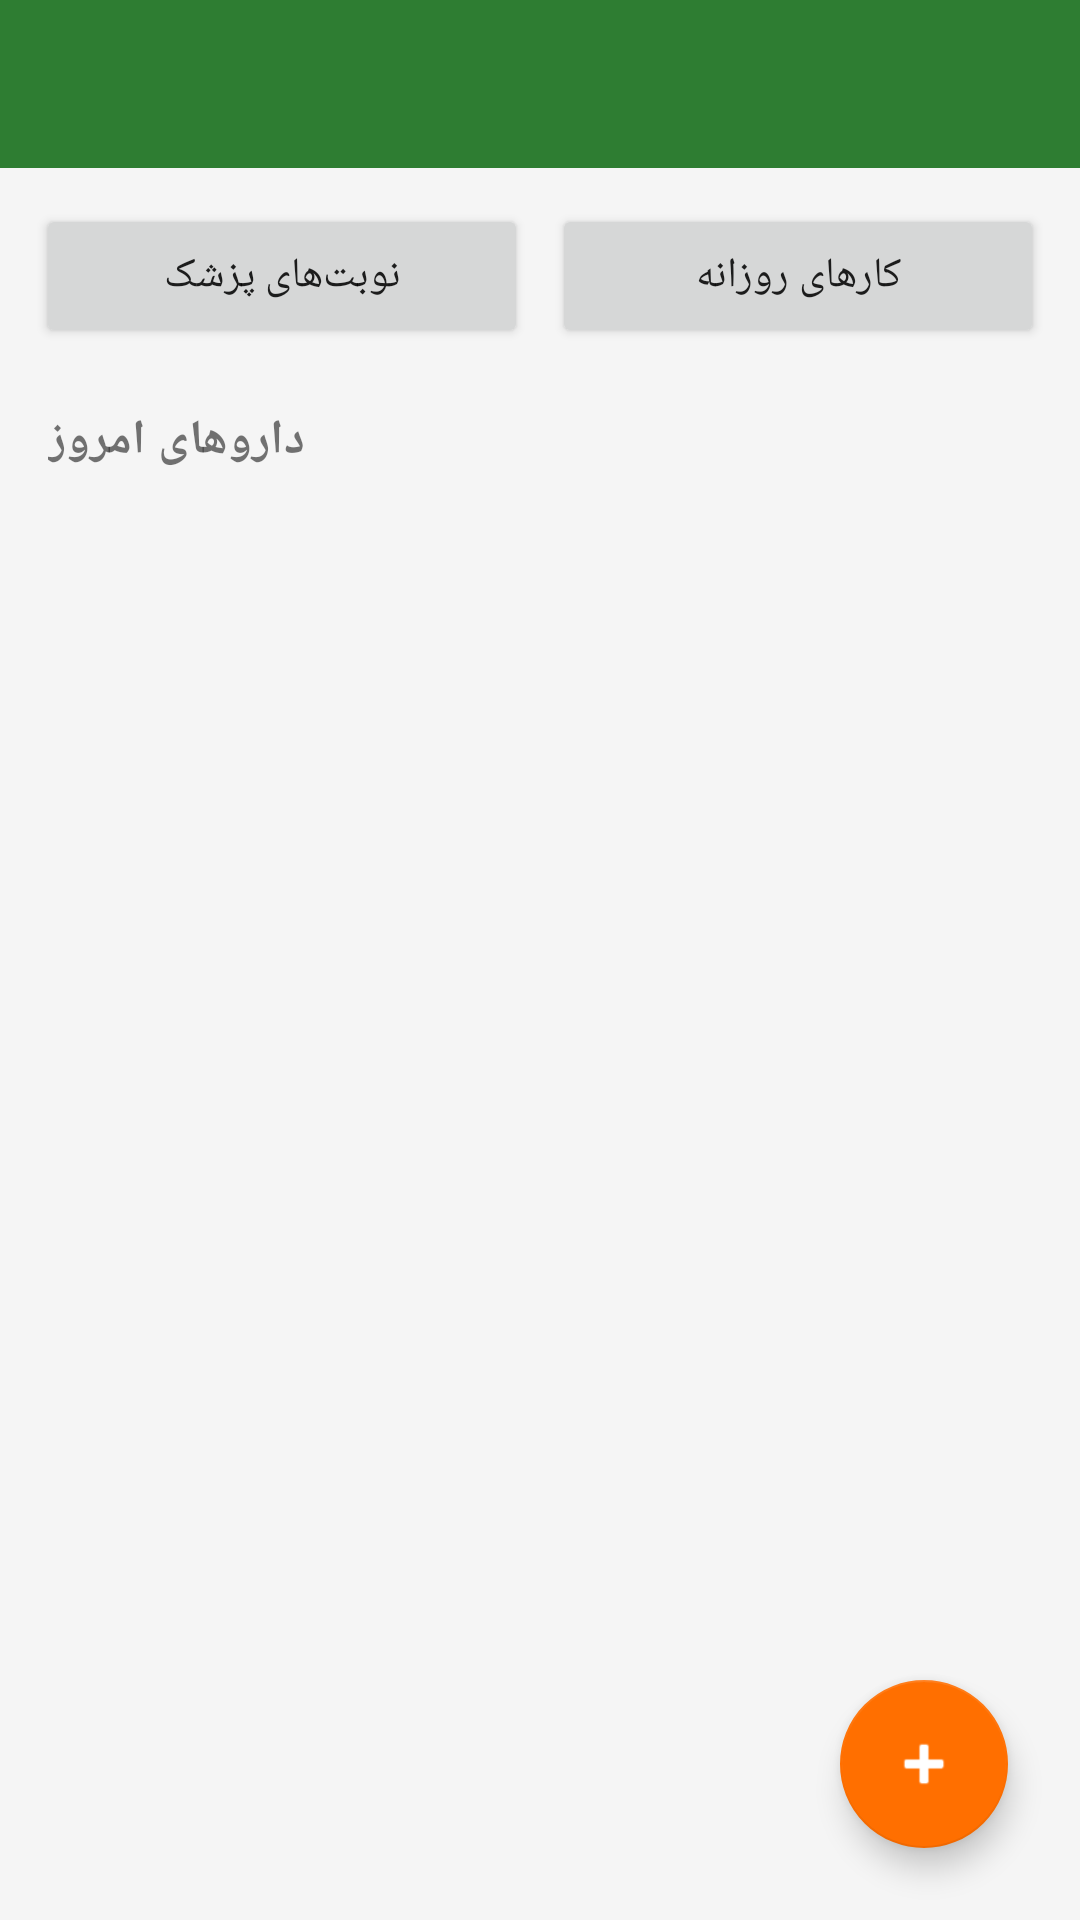

Named icons in this screenshot (1080 × 1920) and their bounding boxes, (x1,y1,x2,y2):
افزودن دارو: (840,1680,1008,1848)
